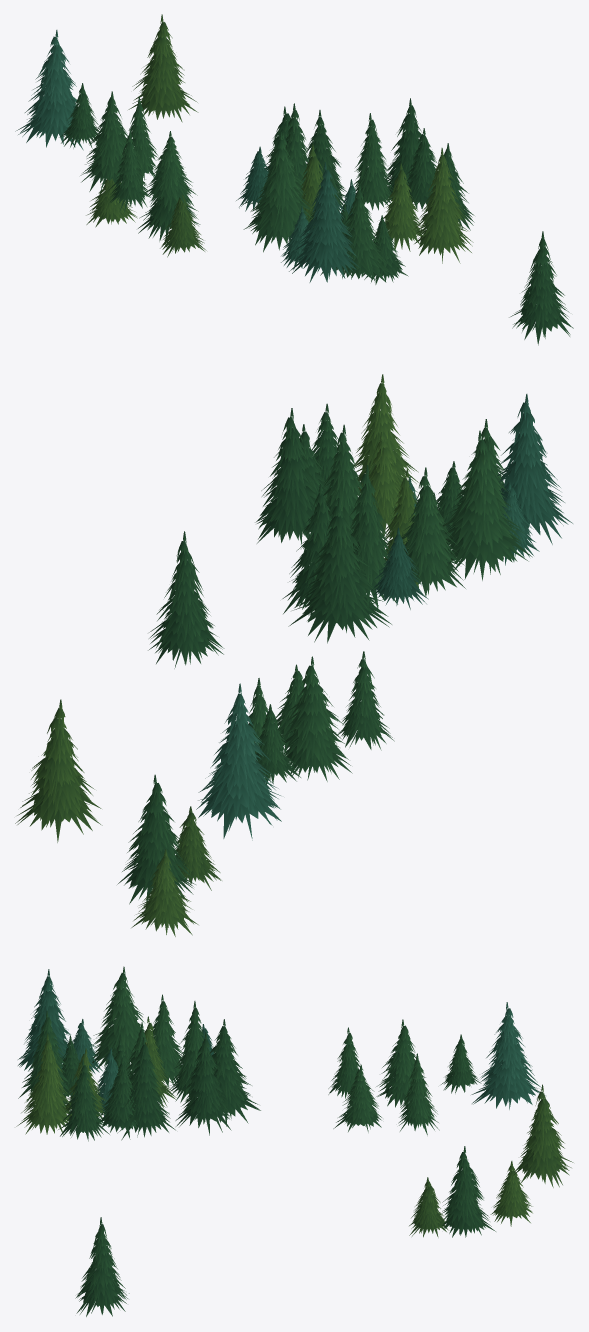
File: pine_12.glb
3 renders of one model, top to bottom at view 1: azimuth 30°, elevation 25°; view 2: azimuth 150°, elevation 25°; view 3: azimuth 270°, elevation 25°, orthographic. The views are drawn at different scales.
Visible parts, largest first — view 1: pine_12; view 2: pine_12; view 3: pine_12.
Part boxes in pixels (x1,y1,x2,y2): pine_12: (15, 14, 573, 345); pine_12: (15, 374, 572, 936); pine_12: (16, 966, 573, 1316).
Size of the model in its own units: 42.65 by 31.98 by 69.06.
1 material, 1 textured.
